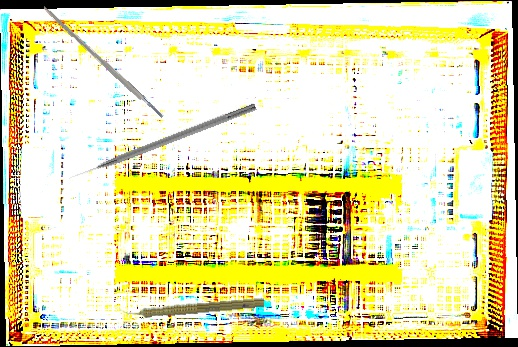Handpiece: (118, 291, 265, 323)
Hook Surgical: (66, 101, 258, 183)
Scalpel Handle: (41, 4, 165, 121)
